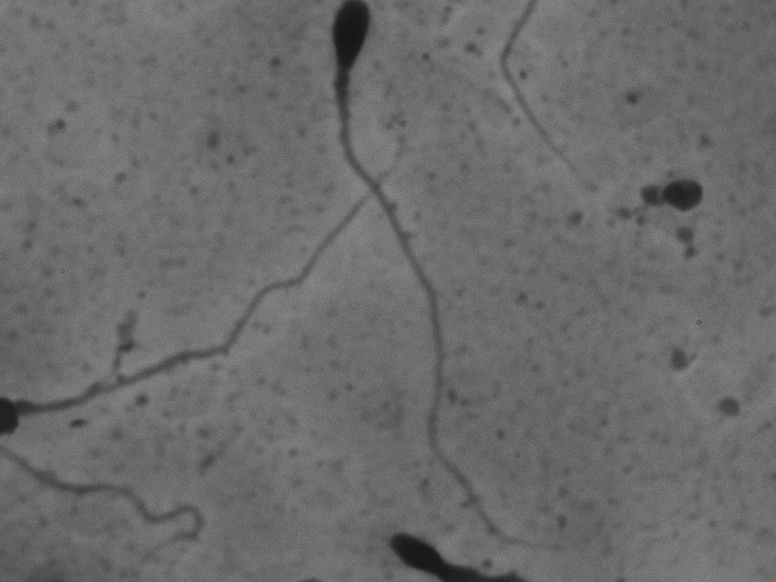Abnormal: (313, 0, 598, 567)
